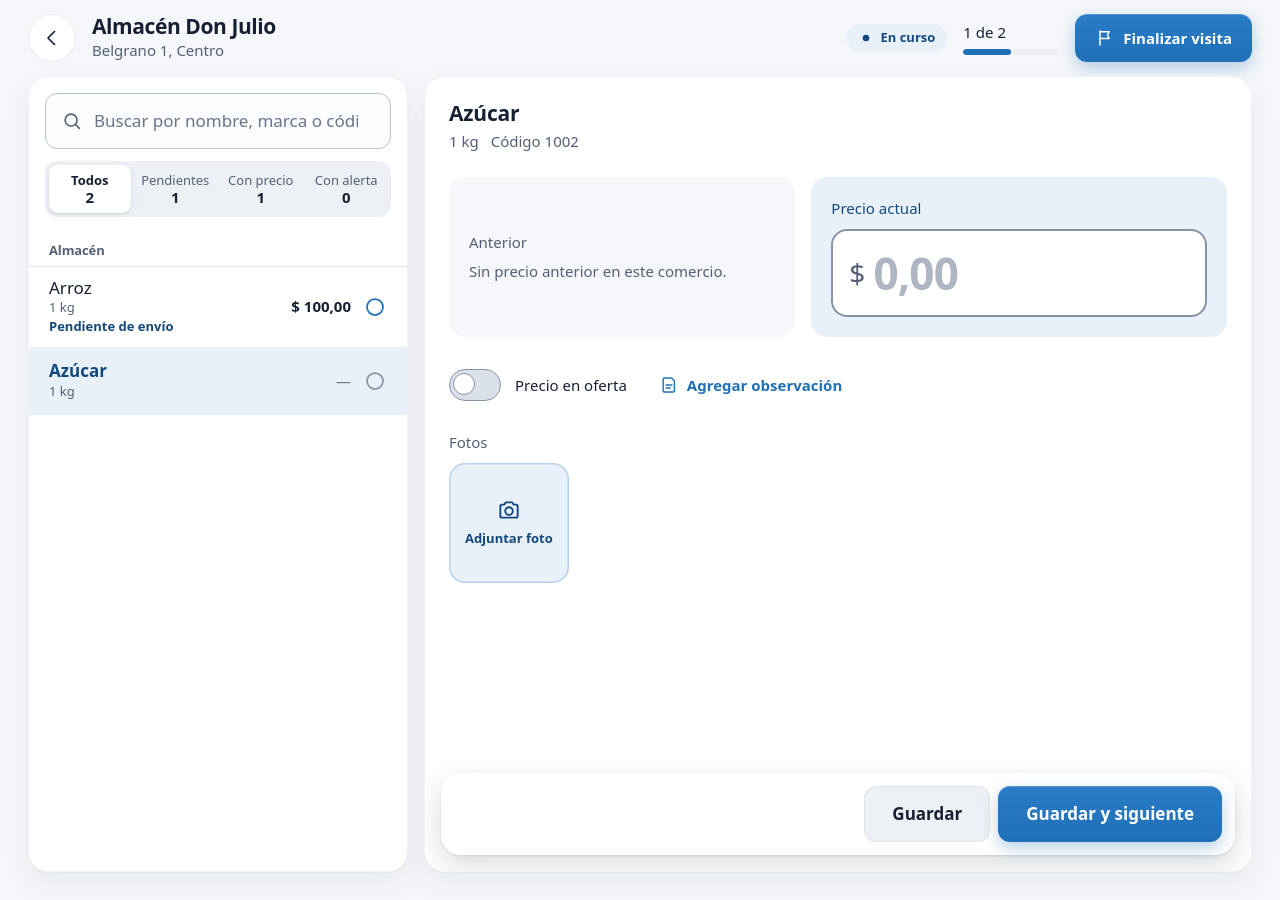
Scenario: VisitaPage offline outbox › finishing the visit is blocked while its work is still unsent
Expected: the heading "Almacén Don Julio" is shown, [92,12,276,40]
Click the button "Finalizar visita" at (1164, 38), box [1075,14,1252,62]
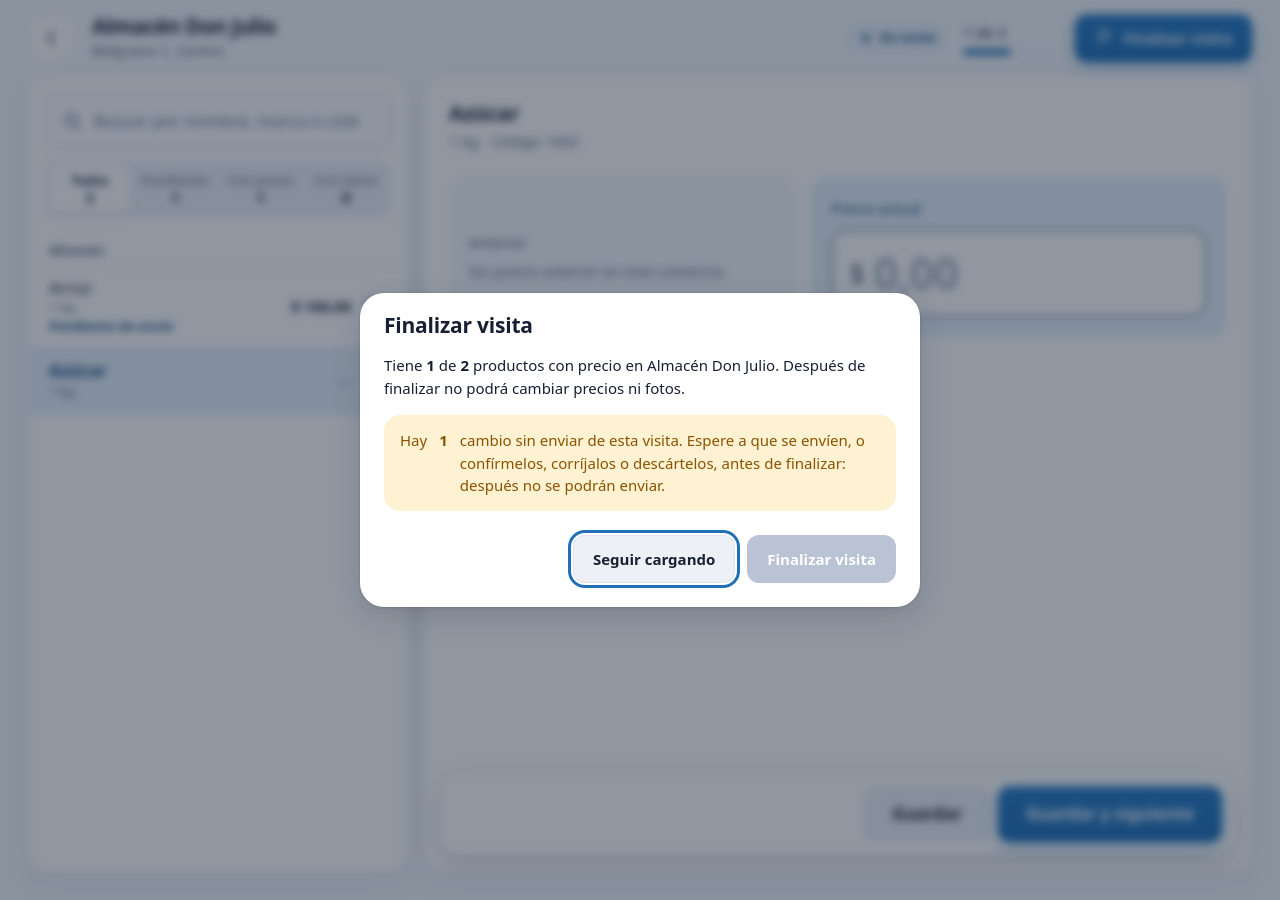
Result: the text "sin enviar de esta visita" is shown at [460,430,865,495]
Result: the button "Finalizar visita" is disabled at [747,535,896,583]
